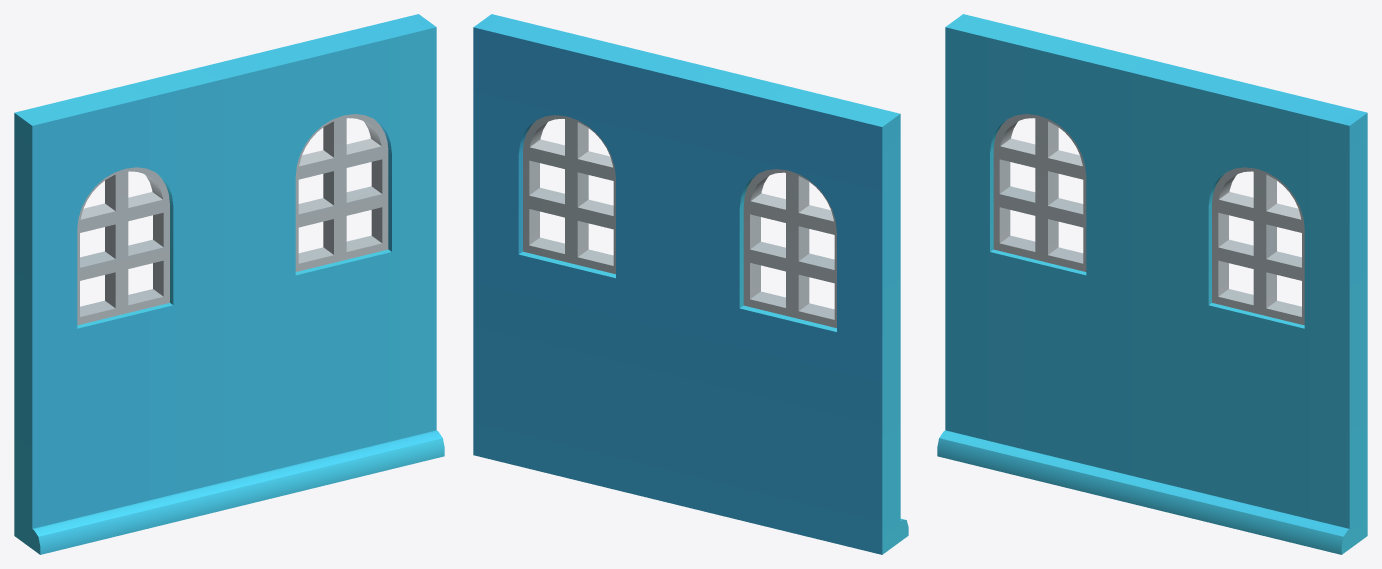
The model's file is Wall002.fbx.
The picture shows the model from 3 angles, left to right: view 1: azimuth 30°, elevation 25°; view 2: azimuth 150°, elevation 25°; view 3: azimuth 330°, elevation 25°; orthographic projection.
Parts seen in each view (by area): view 1: Wall002; view 2: Wall002; view 3: Wall002.
Part boxes in pixels (left/top/right/bottom): Wall002: left=14, top=14, right=444, bottom=554; Wall002: left=473, top=14, right=908, bottom=554; Wall002: left=937, top=14, right=1367, bottom=554.
Size of the model in its own units: 250 by 250 by 27.87.
